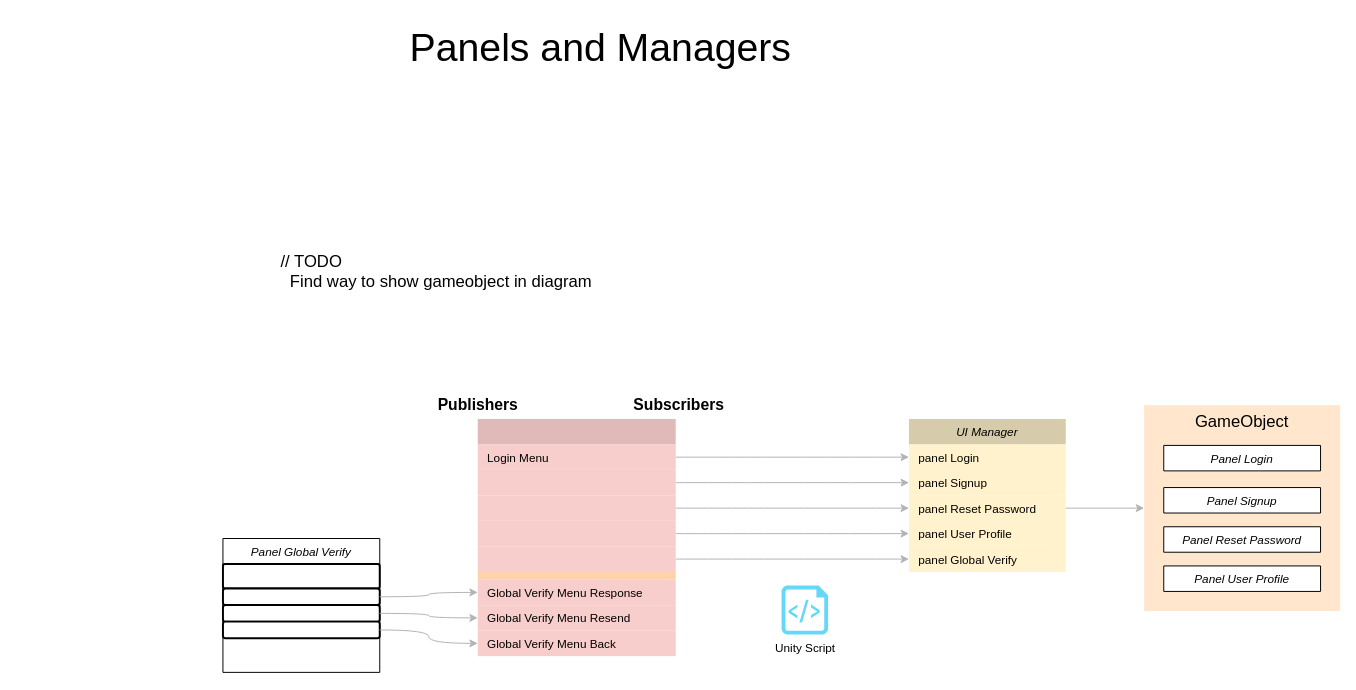
This 1356x690 diagram has some shape labels left out. Each missing label, with the box of its shape:
Back: (221, 620, 380, 639)
Confirm: (221, 587, 380, 606)
Event Manager: (477, 418, 675, 656)
Global Verify Menu: (477, 546, 675, 571)
Resend: (221, 604, 380, 622)
Reset Password Menu: (477, 495, 675, 520)
Signup Menu: (477, 469, 675, 495)
User Profile: (477, 520, 675, 546)
